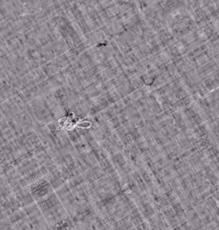snag: (57, 109, 103, 139)
